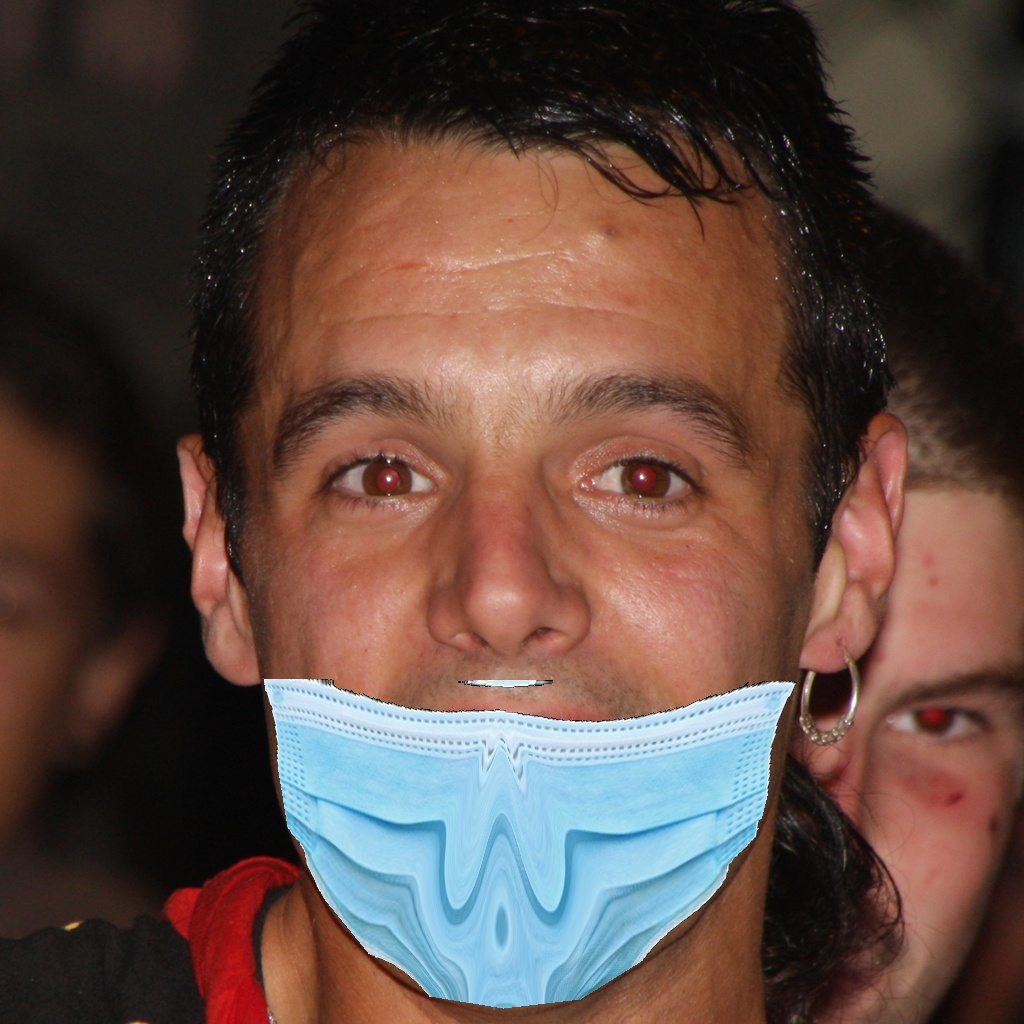mascarilla_mal_puesta: (162, 320, 794, 945)
